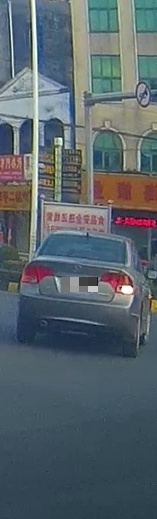L_light: (19, 263, 56, 285)
R_light: (100, 267, 135, 295)
T_light: (80, 236, 99, 243)
day-right: (16, 229, 140, 358)
plate_1: (61, 277, 98, 292)
